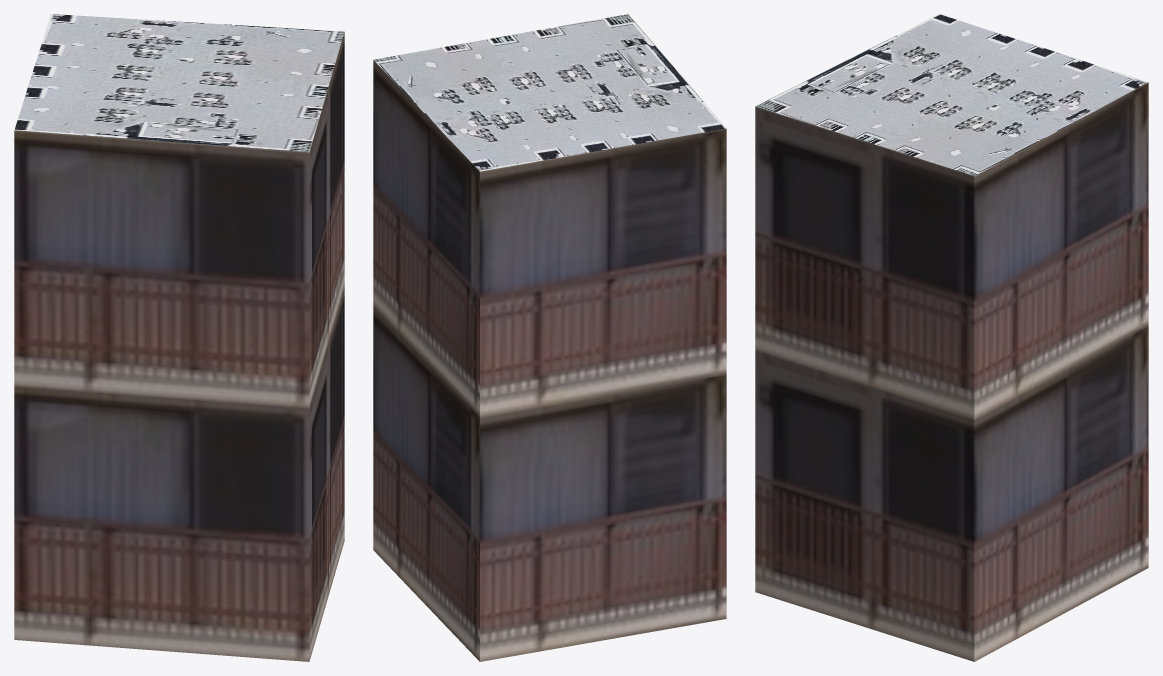
File: ResTex__2019.fbx
3 views of the same model, side by side, from view 1: azimuth 30°, elevation 25°; view 2: azimuth 150°, elevation 25°; view 3: azimuth 270°, elevation 25° (orthographic). The views are drawn at different scales.
Parts seen in each view (by area): view 1: CityEngineMaterial_6_m, CityEngineMaterial_4_m; view 2: CityEngineMaterial_6_m, CityEngineMaterial_4_m; view 3: CityEngineMaterial_6_m, CityEngineMaterial_4_m.
Part boxes in pixels (bbox=[...]): CityEngineMaterial_6_m: bbox=[14, 32, 344, 661]; CityEngineMaterial_4_m: bbox=[14, 14, 344, 152]; CityEngineMaterial_6_m: bbox=[373, 60, 726, 661]; CityEngineMaterial_4_m: bbox=[373, 14, 726, 171]; CityEngineMaterial_6_m: bbox=[755, 82, 1148, 661]; CityEngineMaterial_4_m: bbox=[755, 14, 1148, 175].
Size of the model in its own units: 4.3 by 6 by 4.4.
Materials: 2 (2 with a texture image).
